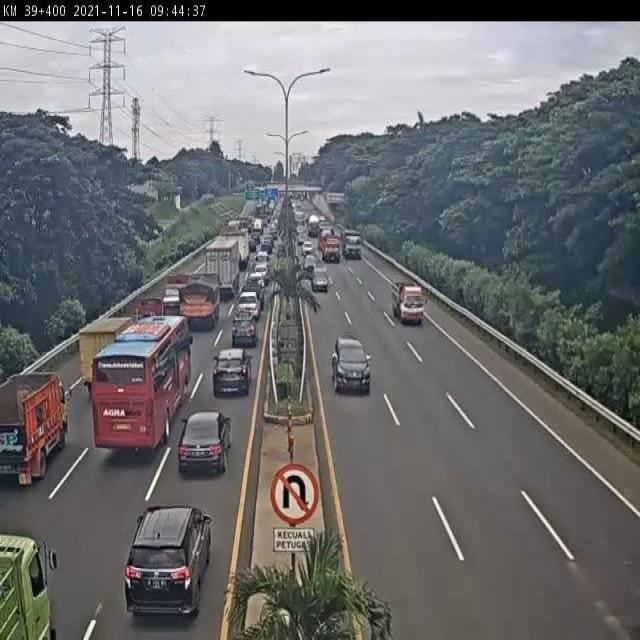big bus: (92, 316, 190, 448)
car: (124, 503, 210, 613), (178, 412, 229, 473), (330, 336, 372, 392), (213, 348, 252, 396), (232, 316, 255, 347), (237, 291, 259, 321), (242, 284, 265, 307), (311, 265, 328, 291), (247, 270, 266, 290)
small truck: (81, 316, 133, 385), (161, 273, 191, 312), (129, 295, 159, 332)
truck-l-: (201, 242, 241, 298)
truck-m-: (0, 371, 72, 484), (179, 276, 220, 329), (391, 283, 426, 325)
